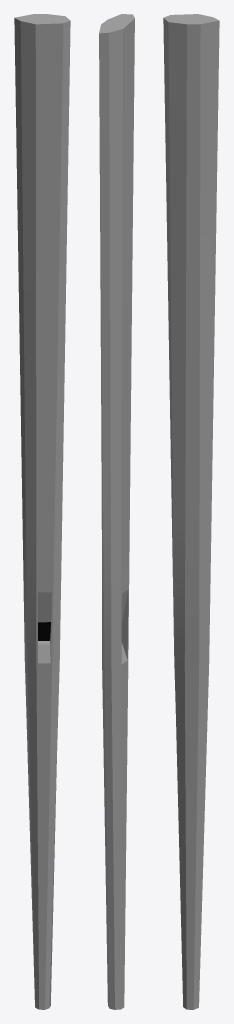
The model's file is Pipes.fbx.
The picture shows the model from 3 angles, left to right: view 1: azimuth 90°, elevation 25°; view 2: azimuth 150°, elevation 25°; view 3: azimuth 270°, elevation 25°; orthographic projection.
Parts seen in each view (by area): view 1: pCylinder47; view 2: pCylinder47; view 3: pCylinder47.
Boxes of the visible parts, left/top/right/bottom form: pCylinder47: left=14, top=14, right=70, bottom=1009; pCylinder47: left=99, top=14, right=134, bottom=1009; pCylinder47: left=163, top=14, right=219, bottom=1009.
Size of the model in its own units: 0.274 by 12.2 by 0.6294.
1 material, 1 textured.
